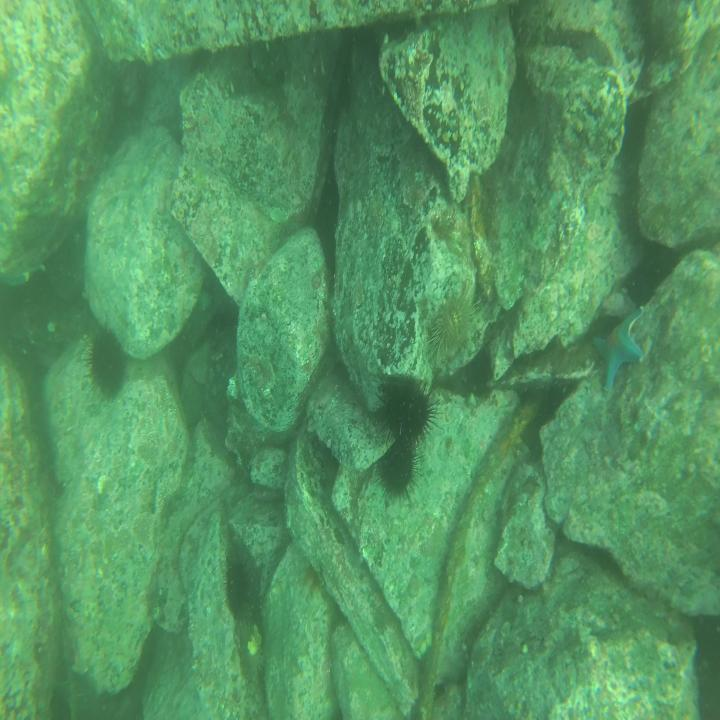echinus: (380, 369, 437, 444), (427, 285, 480, 358), (80, 323, 128, 403), (376, 436, 422, 503), (222, 556, 252, 623)
starfish: (592, 301, 647, 391)
